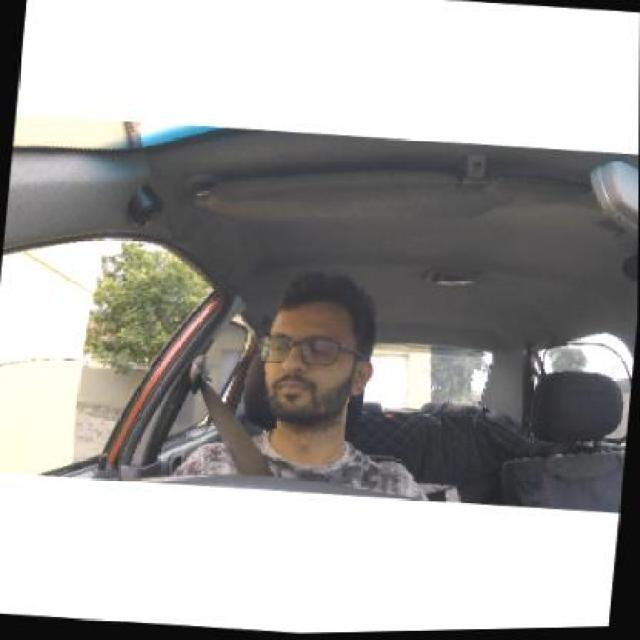drowsy: (256, 273, 375, 429)
